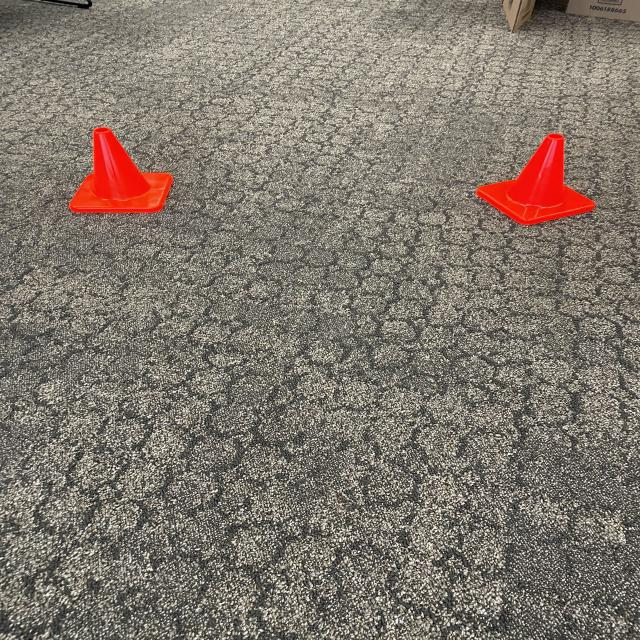Traffic Cone: (470, 132, 602, 238), (57, 122, 189, 222)
